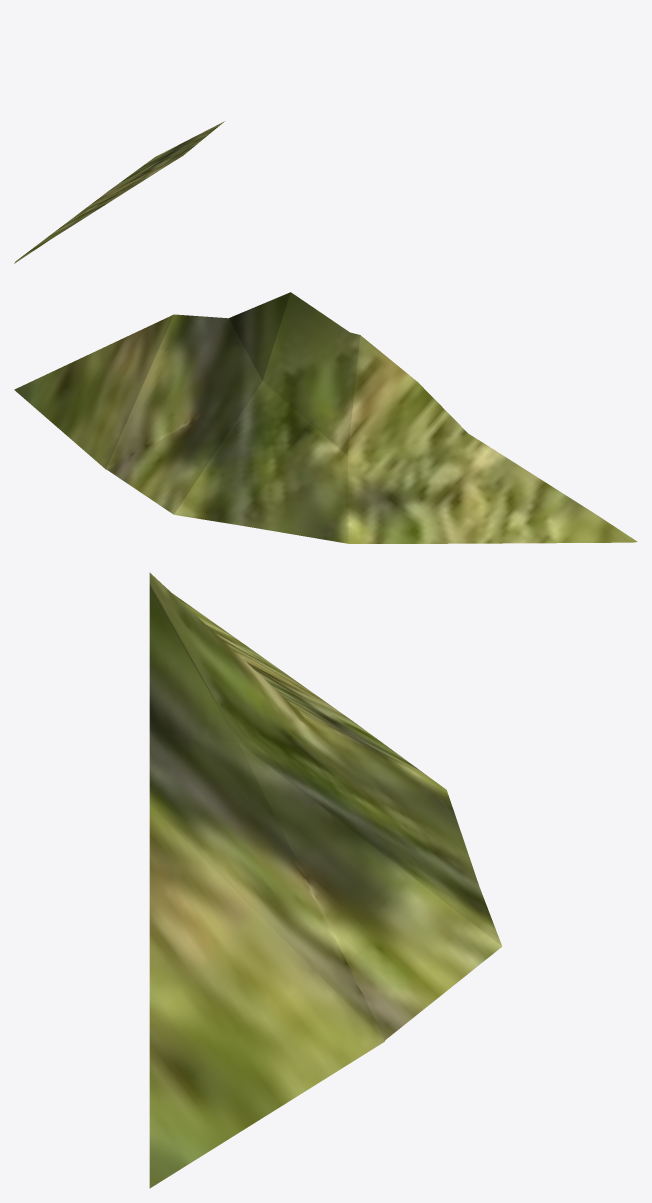
3 views of the same model, one above another, from view 1: azimuth 30°, elevation 25°; view 2: azimuth 150°, elevation 25°; view 3: azimuth 270°, elevation 25° (orthographic). The views are drawn at different scales.
Size of the model in its own units: 1.6 by 0.4042 by 0.3912.
1 material, 1 textured.
